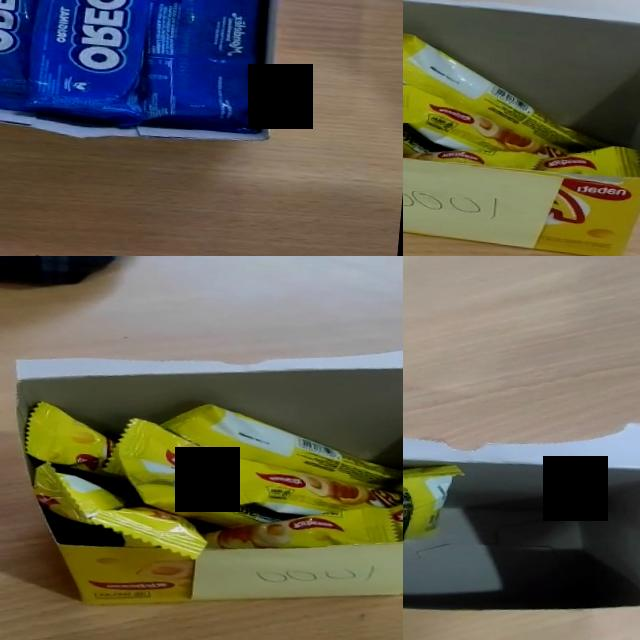Ahh: (403, 28, 624, 157), (165, 405, 403, 491), (403, 80, 581, 163), (204, 455, 403, 515), (25, 402, 121, 479), (207, 509, 396, 548), (117, 418, 213, 490), (136, 482, 279, 527), (403, 456, 464, 555), (91, 507, 206, 559), (34, 463, 126, 524), (403, 61, 450, 159), (533, 137, 640, 180), (404, 140, 546, 172)
Oreo: (135, 0, 283, 136), (14, 0, 167, 124)
